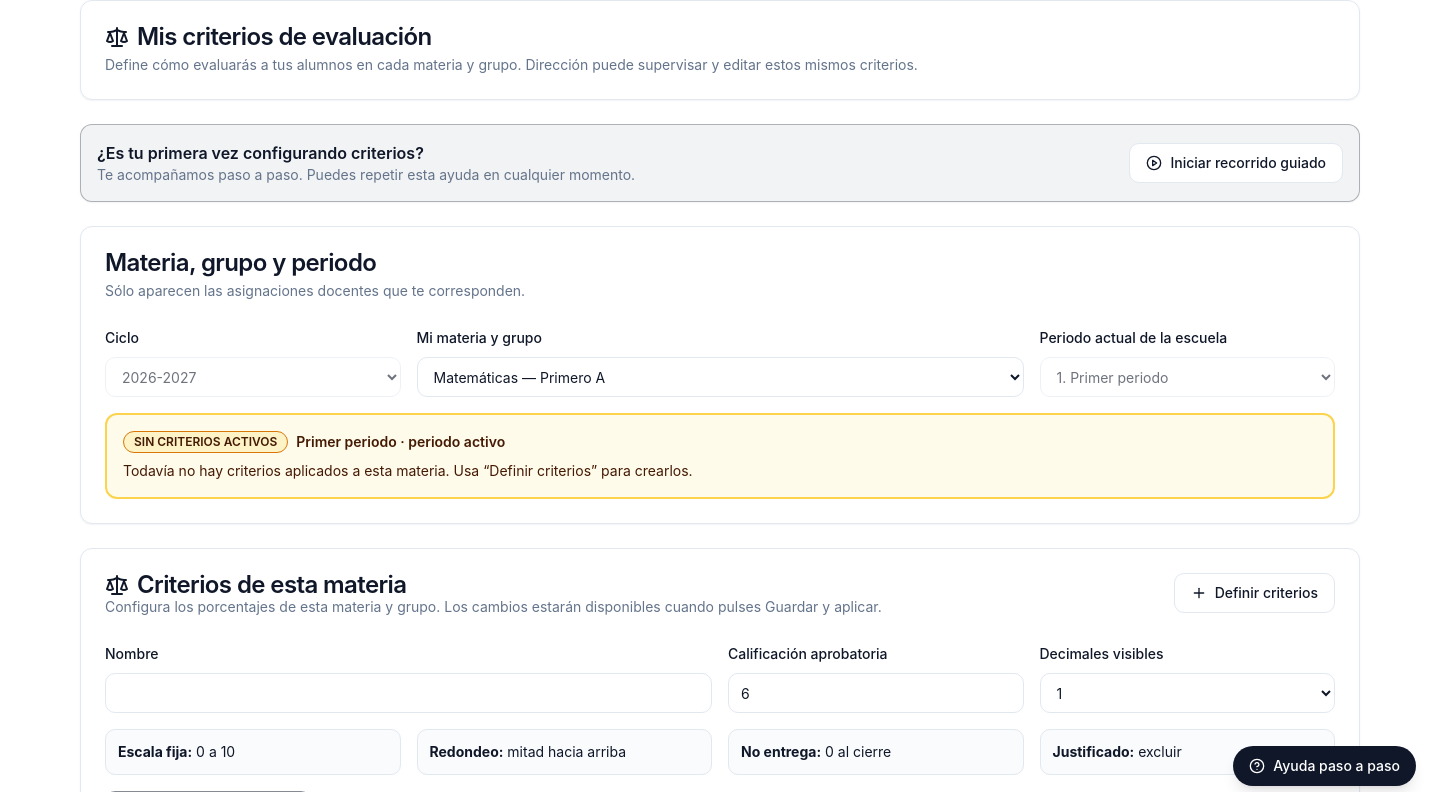
Scenario: Paso 10: interfaz administrativa accesible › mantiene disponible un recorrido guiado con globos y navegación paso a paso
This screenshot has width=1440, height=792.
Expected: the heading "Mis criterios de evaluación" is shown, left=105, top=22, right=432, bottom=51
Click the button "Iniciar recorrido guiado" at [1236, 163], box left=1130, top=143, right=1343, bottom=183
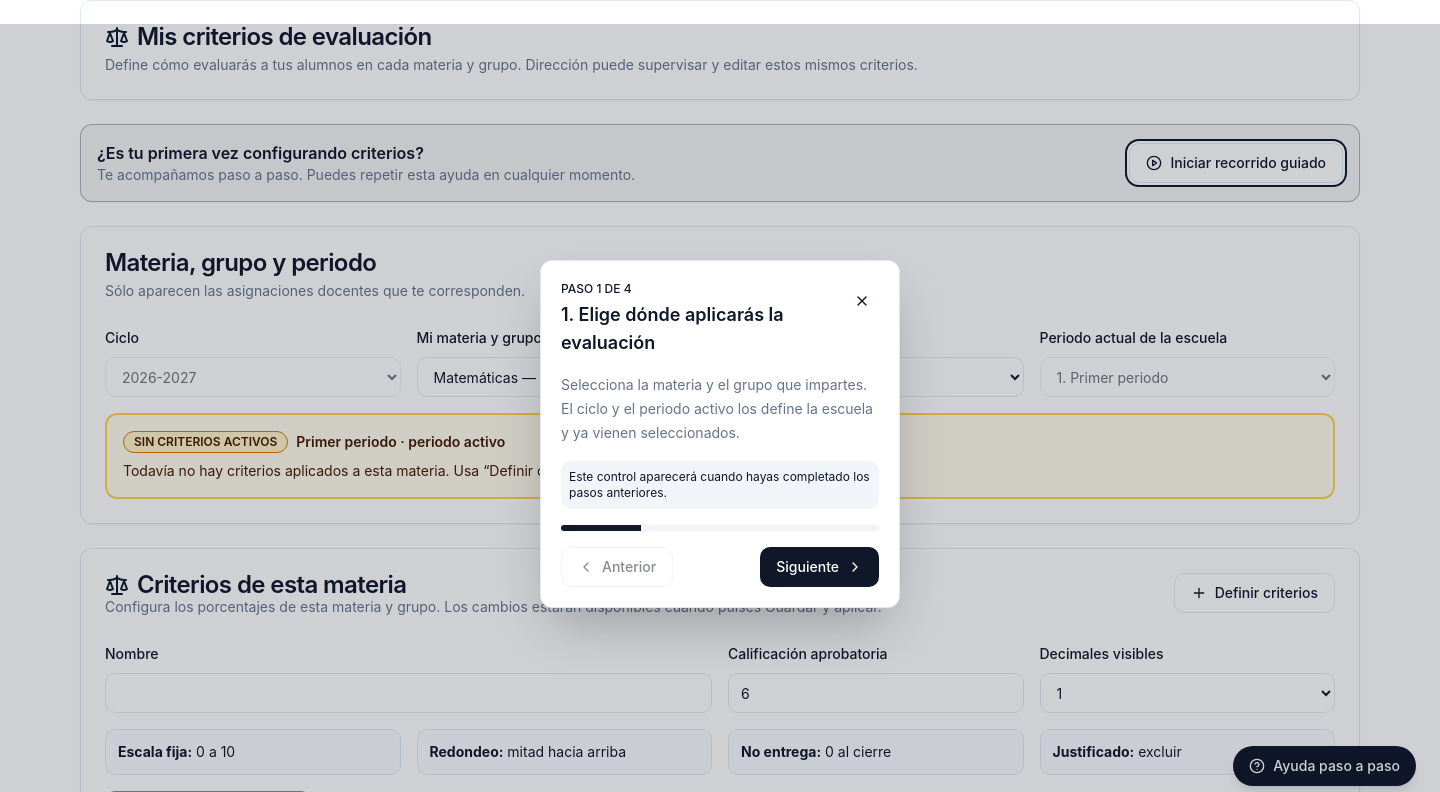
Now the dialog "1. Elige dónde aplicarás la evaluación" is shown, box left=540, top=260, right=900, bottom=608
Click the button "Siguiente" at [820, 567], box left=760, top=547, right=879, bottom=587
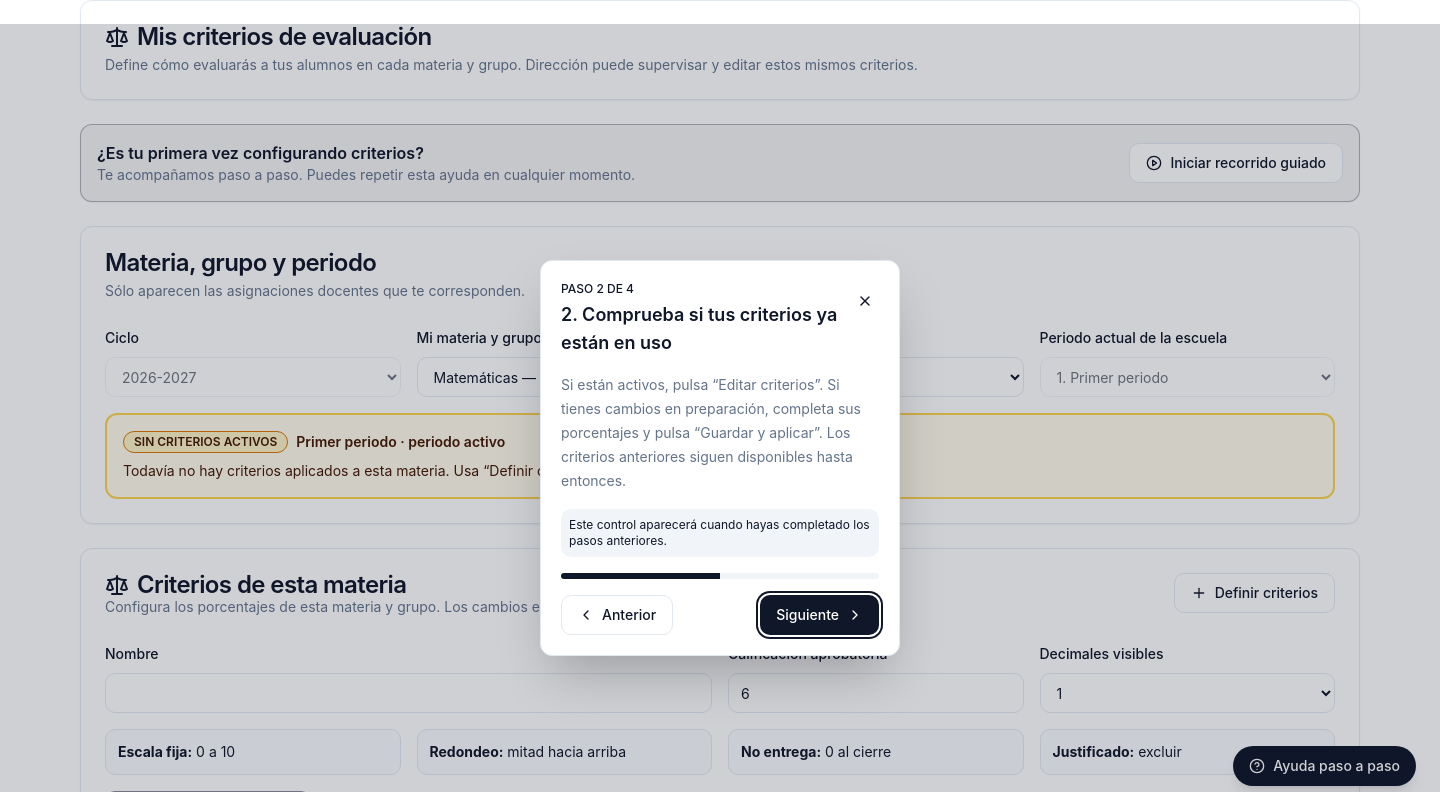
Expected: the button with aria-label "Abrir tutorial de criterios de evaluación" is shown, left=1233, top=746, right=1416, bottom=786
Now the dialog "2. Comprueba si tus criterios ya están en uso" is shown, box left=540, top=260, right=900, bottom=656
